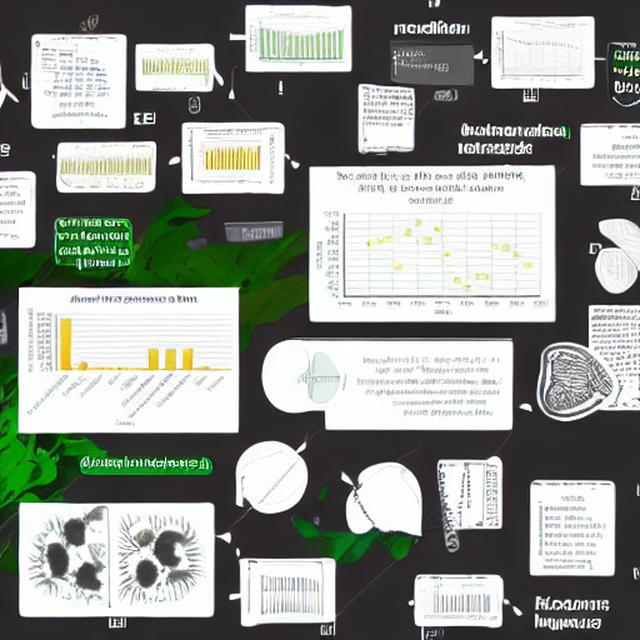Graph: (311, 168, 552, 318), (23, 292, 237, 430), (493, 20, 590, 87), (248, 14, 345, 69), (199, 138, 262, 175)
